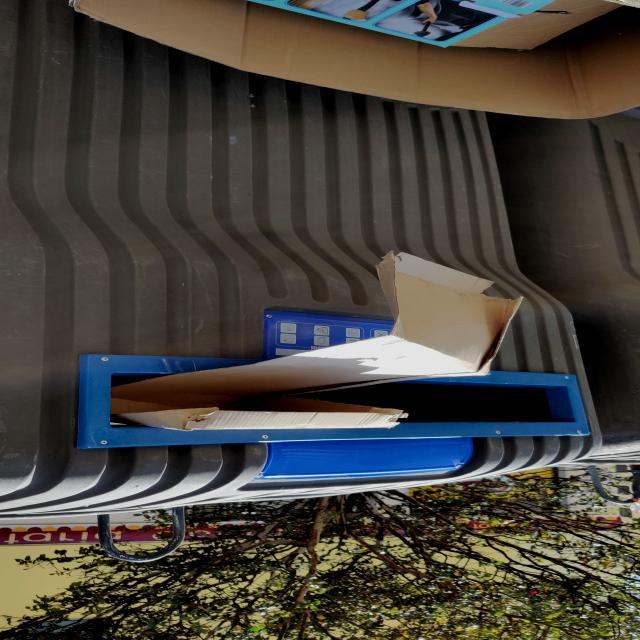Corrugated carton: (68, 0, 638, 120), (244, 0, 624, 50)
Pizza box: (112, 250, 524, 431)
